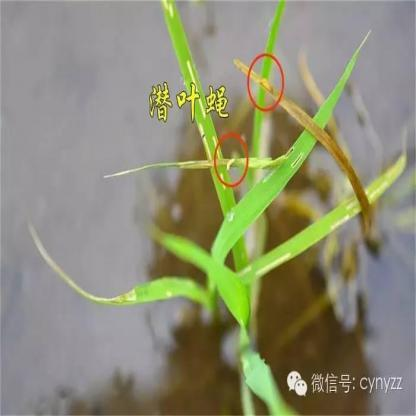whorl-maggot: (224, 154, 238, 178)
